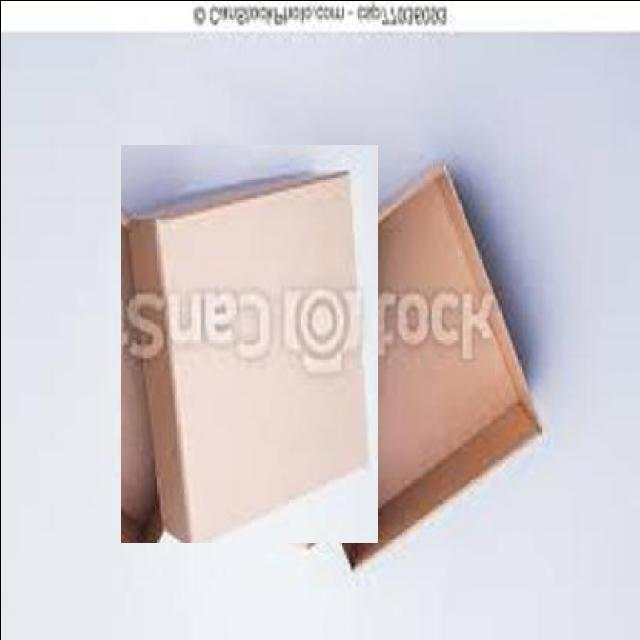normal: (120, 144, 377, 542)
